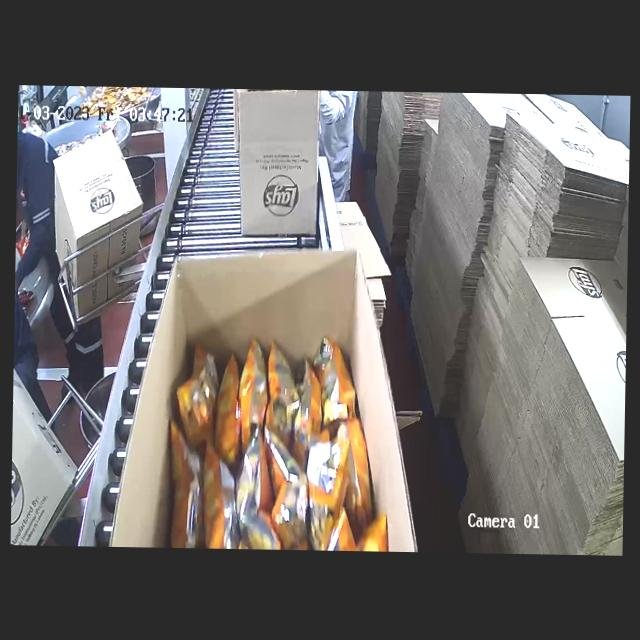cheese: (156, 333, 383, 551)
